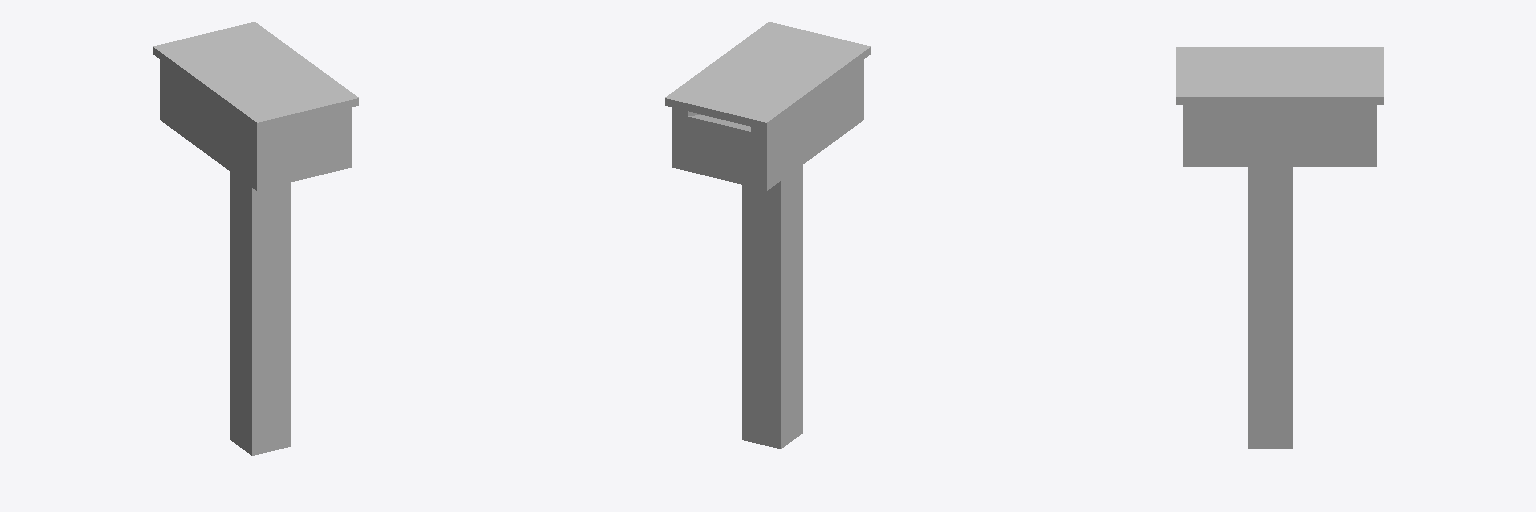
File: FM_mailbox.obj
3 views of the same model, side by side, from view 1: azimuth 30°, elevation 25°; view 2: azimuth 150°, elevation 25°; view 3: azimuth 270°, elevation 25° (orthographic).
Parts seen in each view (by area): view 1: Cube_Cube.007; view 2: Cube_Cube.007; view 3: Cube_Cube.007.
Boxes of the visible parts, <box> form: Cube_Cube.007: <box>153,22,358,455</box>; Cube_Cube.007: <box>665,22,870,448</box>; Cube_Cube.007: <box>1176,47,1383,448</box>.
Size of the model in its own units: 0.4178 by 1.44 by 0.7391.